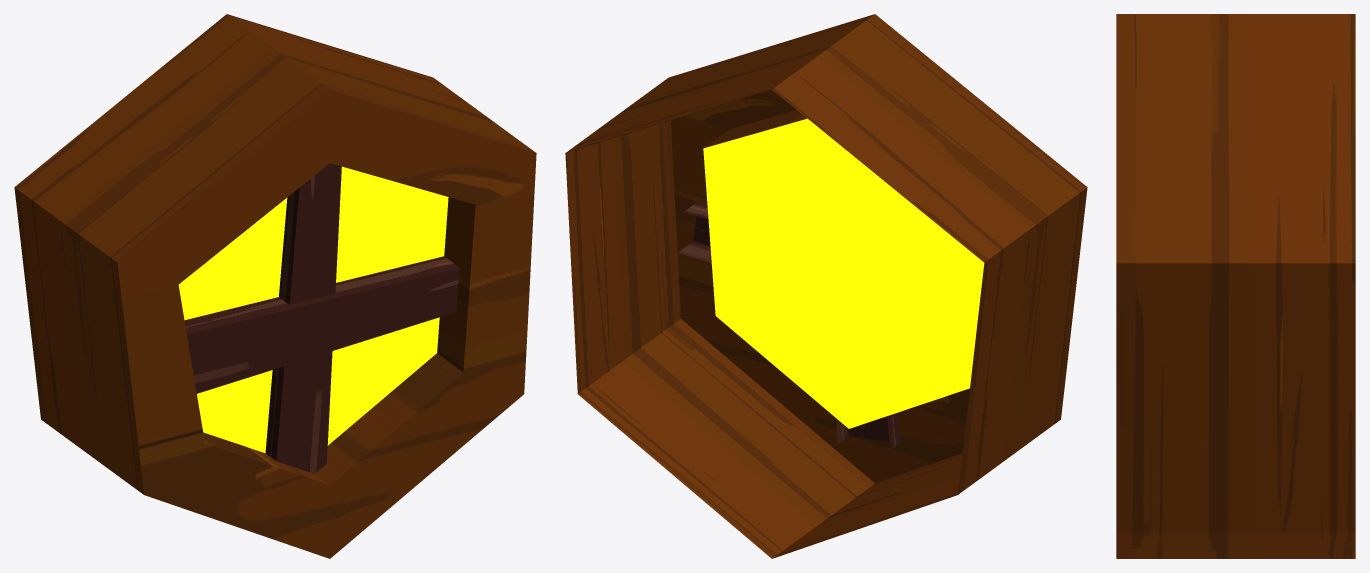
Rendered from SM_BLD_window_v06_01.glb.
The picture shows the model from 3 angles, left to right: view 1: azimuth 30°, elevation 25°; view 2: azimuth 150°, elevation 25°; view 3: azimuth 270°, elevation 25°; orthographic projection. The views are drawn at different scales.
Parts seen in each view (by area): view 1: SM_BLD_window_v06_01_EXPORT; view 2: SM_BLD_window_v06_01_EXPORT; view 3: SM_BLD_window_v06_01_EXPORT.
Boxes of the visible parts, box(x1,y1,x2,y2) form: SM_BLD_window_v06_01_EXPORT: box(14, 14, 536, 558); SM_BLD_window_v06_01_EXPORT: box(565, 14, 1087, 558); SM_BLD_window_v06_01_EXPORT: box(1116, 14, 1355, 558).
Bounding box in the file's own units: 1.21 × 1.3 × 0.5178.
3 materials, 3 textured.
